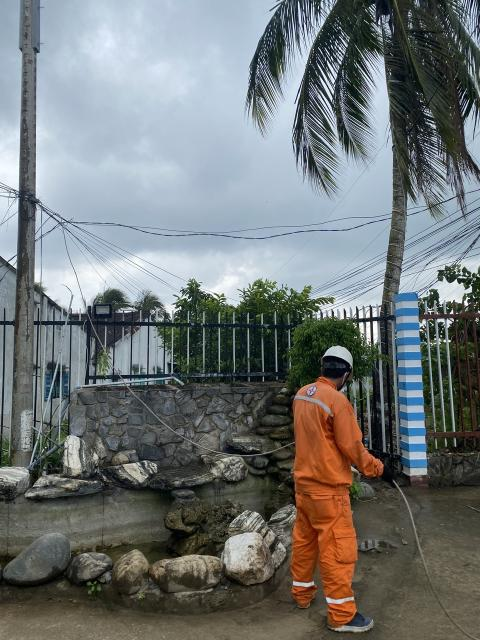gloves: (377, 456, 401, 502)
helmet: (315, 341, 363, 381)
shoes: (321, 604, 387, 636), (287, 583, 320, 615)
